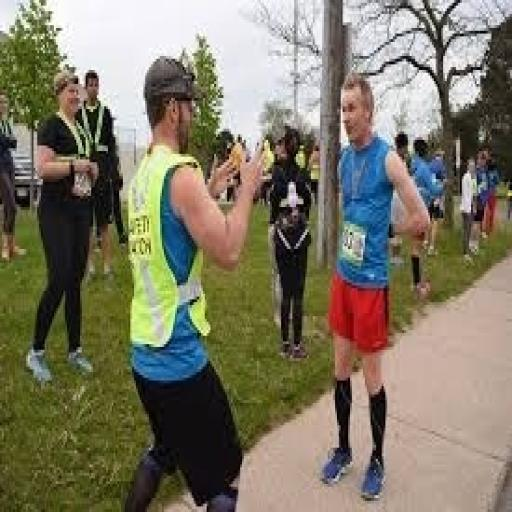running: (121, 53, 268, 509), (318, 70, 434, 504), (22, 67, 102, 386)
